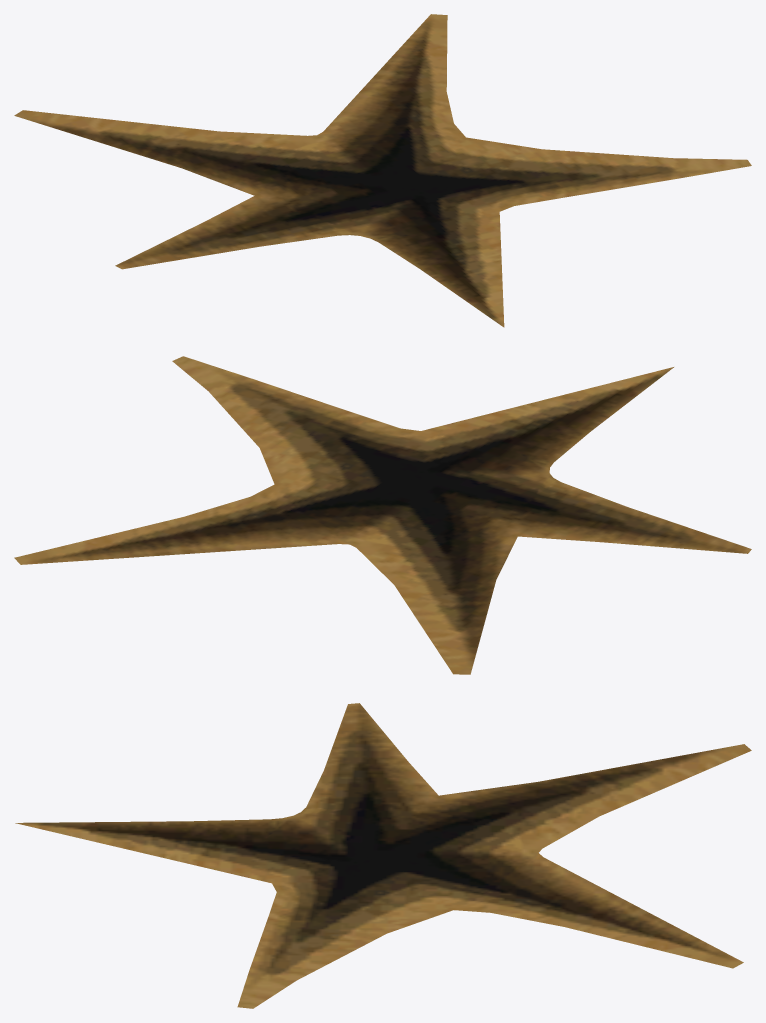
The model's file is UnitIconHoleOff.glb.
3 views of the same model, one above another, from view 1: azimuth 30°, elevation 25°; view 2: azimuth 150°, elevation 25°; view 3: azimuth 270°, elevation 25° (orthographic). The views are drawn at different scales.
Visible parts, largest first — view 1: pPlane10__mUnitIconHoleOff; view 2: pPlane10__mUnitIconHoleOff; view 3: pPlane10__mUnitIconHoleOff.
Boxes of the visible parts, bbox=[...] form: pPlane10__mUnitIconHoleOff: bbox=[14, 14, 751, 327]; pPlane10__mUnitIconHoleOff: bbox=[14, 356, 751, 674]; pPlane10__mUnitIconHoleOff: bbox=[15, 703, 751, 1008].
Size of the model in its own units: 7.21 by 1.49e-08 by 7.35.
Materials: 1 (1 with a texture image).
